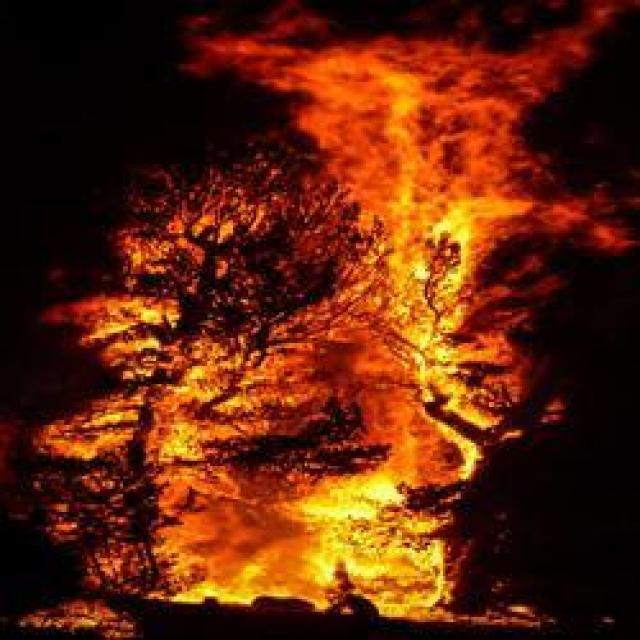Fire: (28, 140, 532, 638), (254, 24, 568, 640)
